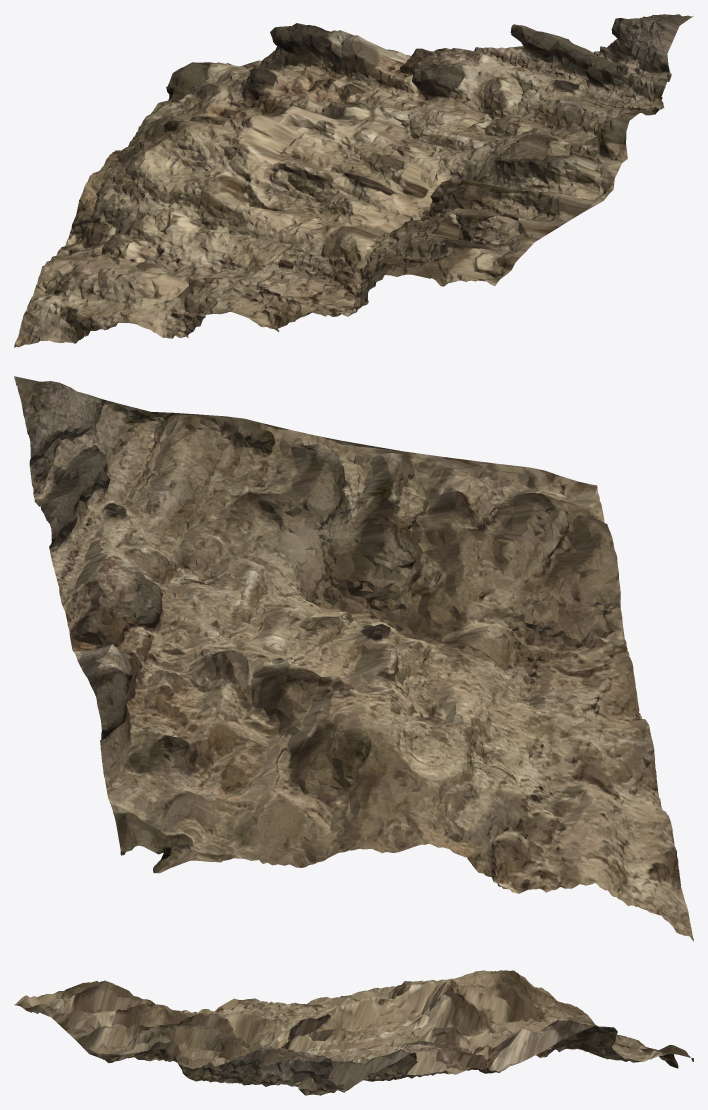
File: tile_0_3.obj
3 renders of one model, top to bottom at view 1: azimuth 30°, elevation 25°; view 2: azimuth 150°, elevation 25°; view 3: azimuth 270°, elevation 25°, orthographic. The views are drawn at different scales.
Visible parts, largest first — view 1: texture_0; view 2: texture_0; view 3: texture_0.
Part boxes in pixels (<box>): texture_0: <box>14,14,693,347</box>; texture_0: <box>14,376,693,941</box>; texture_0: <box>14,970,693,1095</box>.
Bounding box in the file's own units: 0.3883 × 0.1475 × 0.3808.
1 material, 1 textured.
